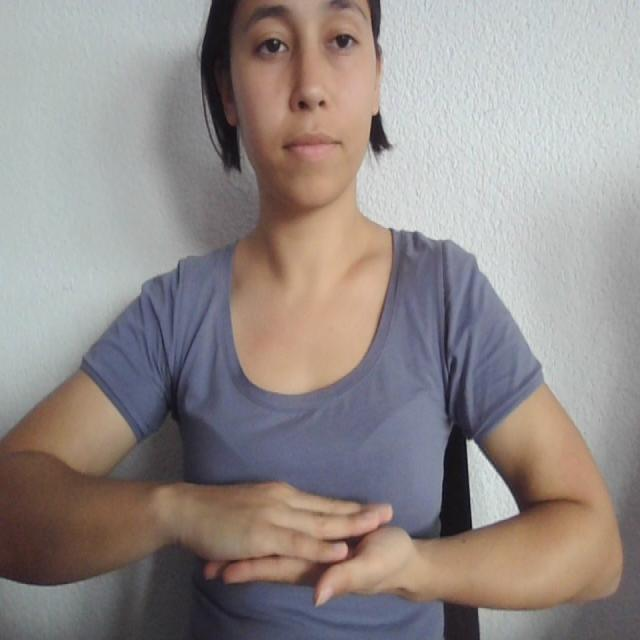Arkadas: (78, 469, 589, 618)
